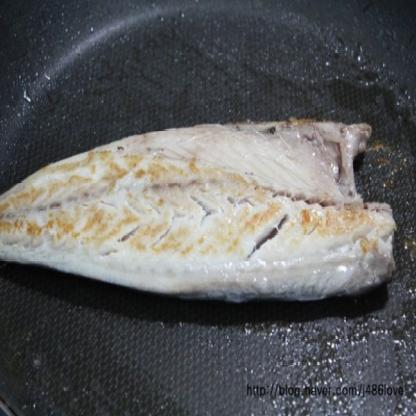Peixe: (0, 96, 391, 322)
